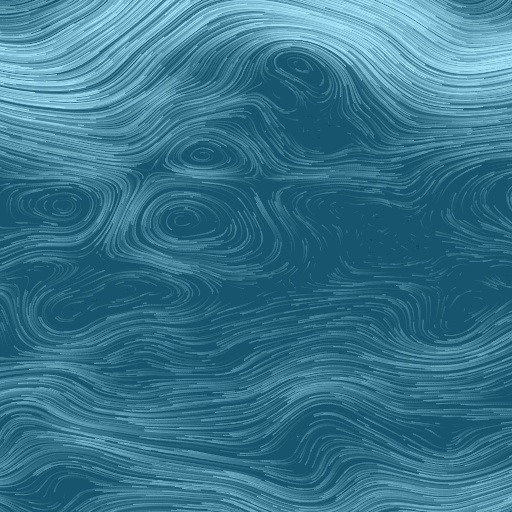eddy: (18, 262, 195, 344), (138, 189, 255, 258), (14, 179, 104, 235), (273, 45, 338, 102), (164, 132, 245, 176)
